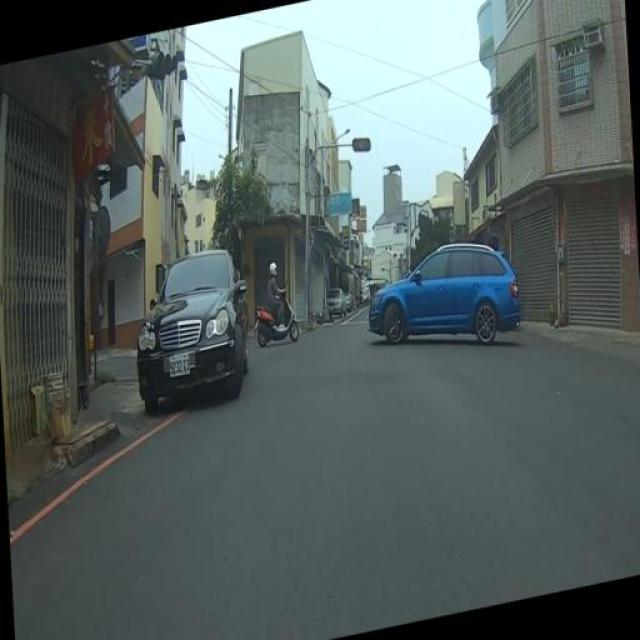illegalparking: (122, 231, 276, 427)
